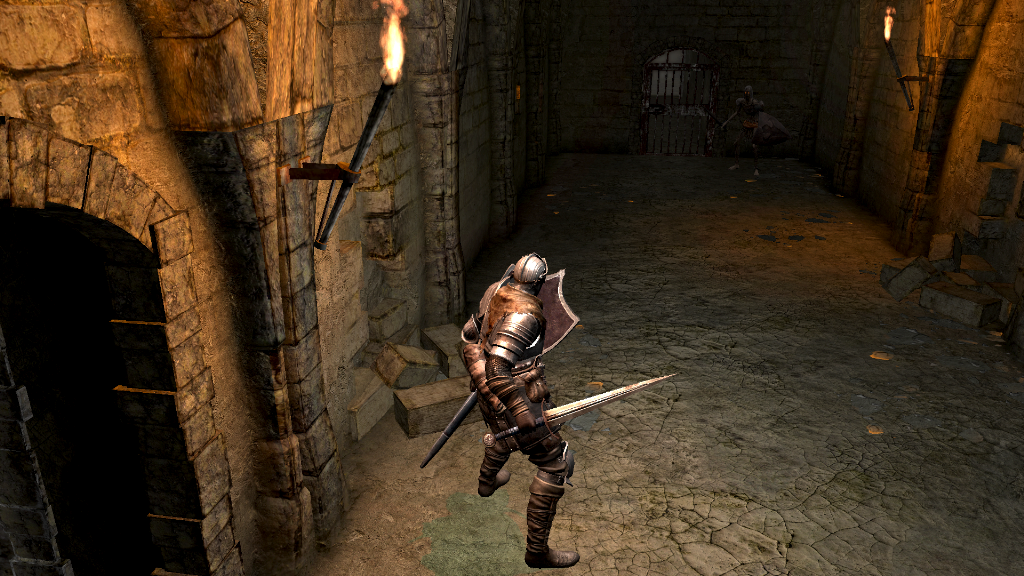player: (459, 252, 679, 570)
undeadSoldier: (719, 84, 767, 176)
